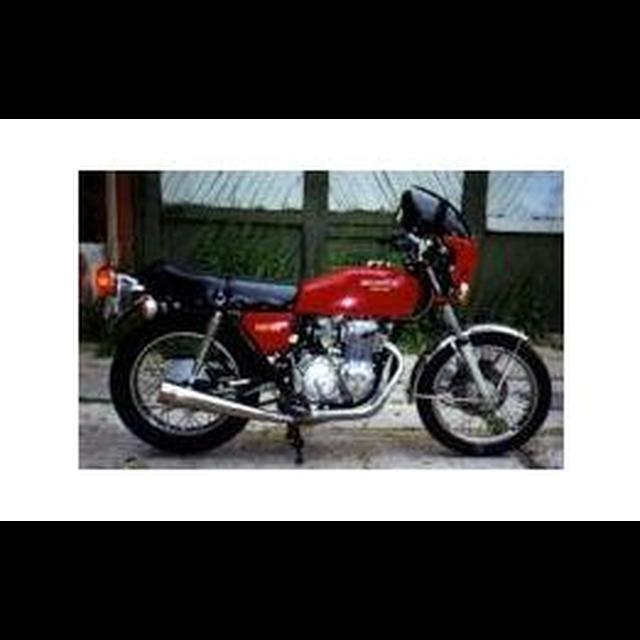motorcycle: (91, 181, 558, 470)
